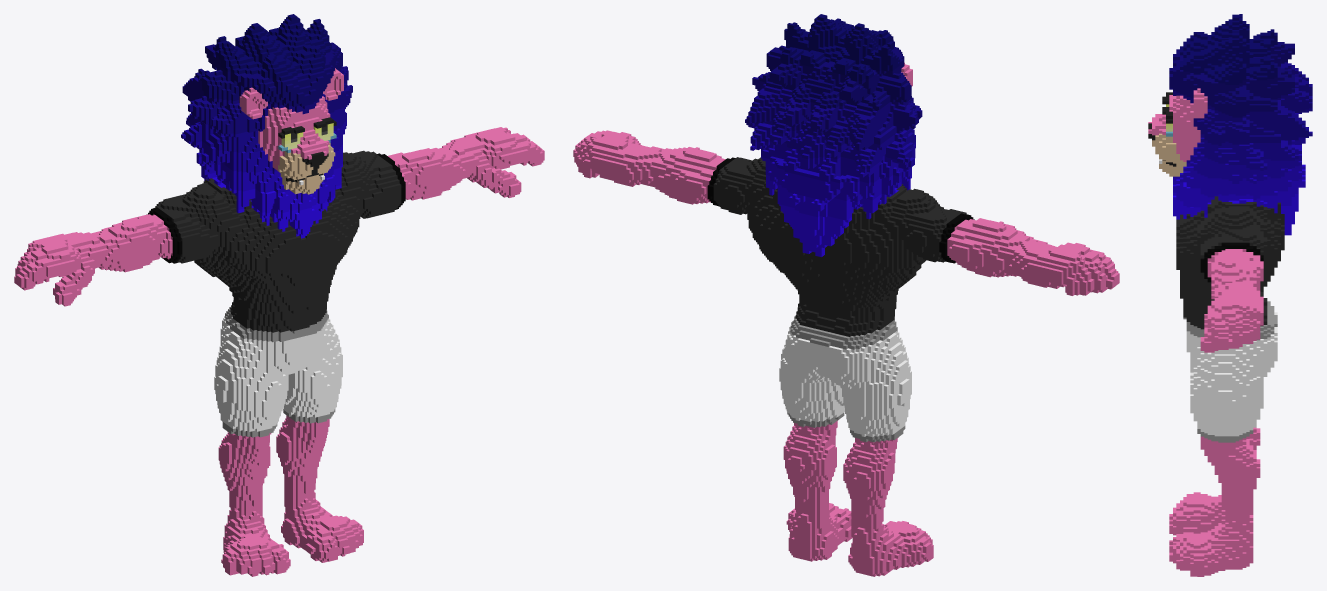
Rendered from 692-C9LyYlJM.glb.
3 renders of one model, left to right at view 1: azimuth 30°, elevation 25°; view 2: azimuth 150°, elevation 25°; view 3: azimuth 270°, elevation 25°, orthographic. The views are drawn at different scales.
Parts seen in each view (by area): view 1: standard; view 2: standard; view 3: standard.
Boxes of the visible parts, x1,y1,x2,y2 form: standard: (14, 14, 544, 576); standard: (573, 14, 1119, 576); standard: (1148, 14, 1312, 576).
Size of the model in its own units: 17.2 by 16.5 by 4.7.
Materials: 5 (5 with a texture image).
